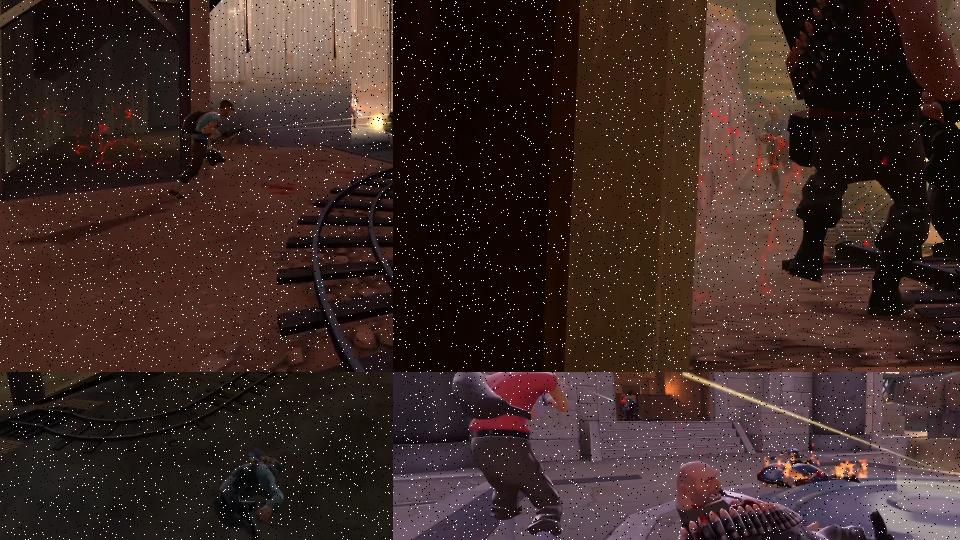Enemy: (775, 0, 960, 317), (676, 460, 960, 540), (450, 372, 571, 540), (167, 90, 247, 209), (216, 448, 284, 539), (758, 456, 862, 486), (760, 107, 791, 191), (349, 93, 365, 131)
